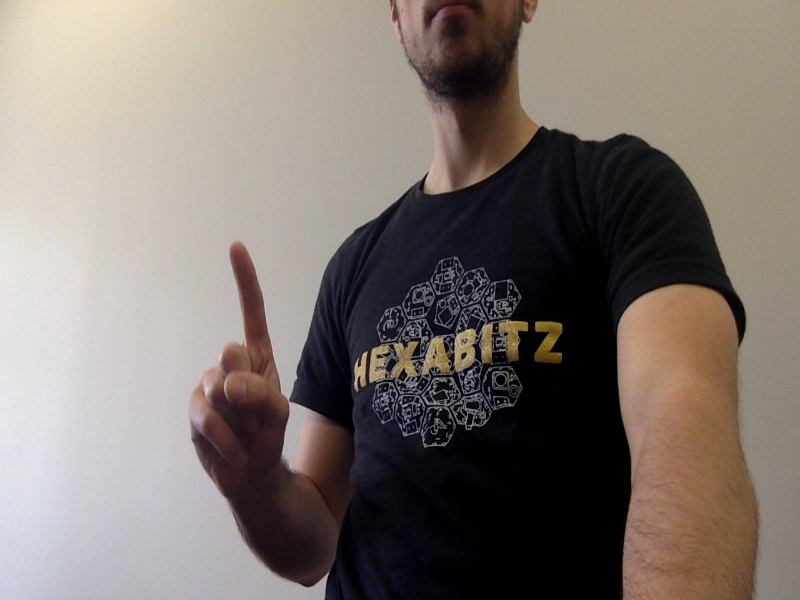1-hand: (188, 241, 288, 484)
